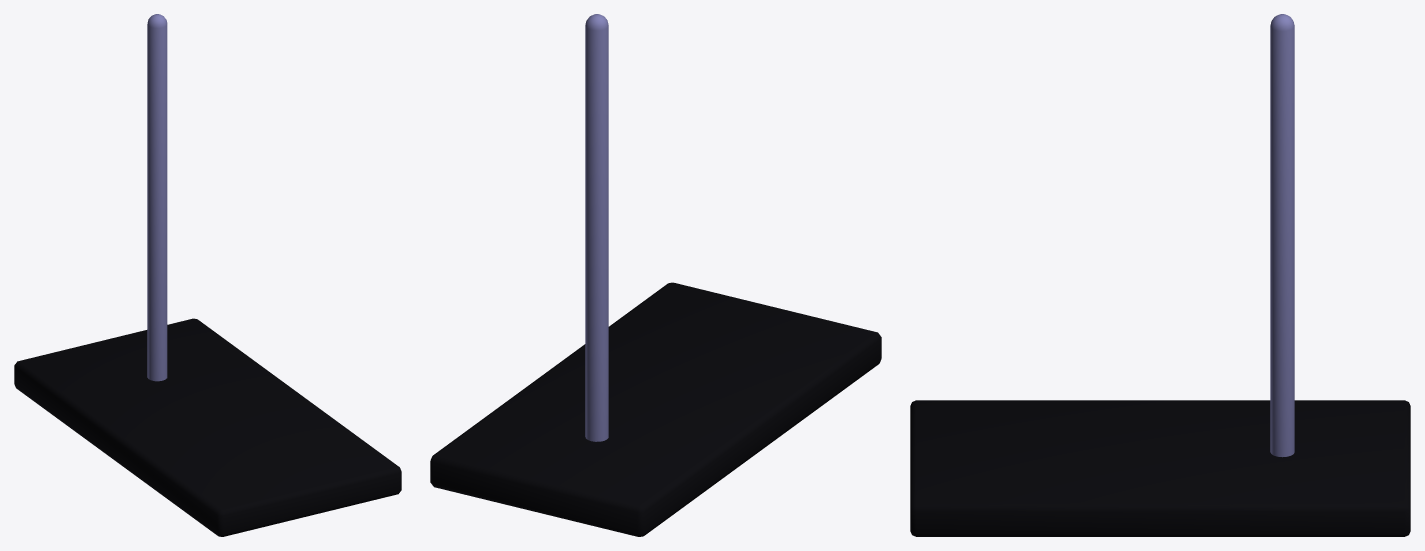
The model's file is LastLuna_Model_Station_Stand_Base.fbx.
3 views of the same model, side by side, from view 1: azimuth 30°, elevation 25°; view 2: azimuth 150°, elevation 25°; view 3: azimuth 270°, elevation 25° (orthographic). The views are drawn at different scales.
Visible parts, largest first — view 1: Stand_Base001, Stand_Pole001; view 2: Stand_Base001, Stand_Pole001; view 3: Stand_Base001, Stand_Pole001.
Part boxes in pixels (bbox=[...]): Stand_Base001: bbox=[14, 318, 401, 536]; Stand_Pole001: bbox=[147, 14, 167, 381]; Stand_Base001: bbox=[430, 282, 881, 536]; Stand_Pole001: bbox=[585, 14, 608, 441]; Stand_Base001: bbox=[910, 400, 1410, 536]; Stand_Pole001: bbox=[1270, 14, 1294, 457].
Bounding box in the file's own units: 105 × 212 × 205.
